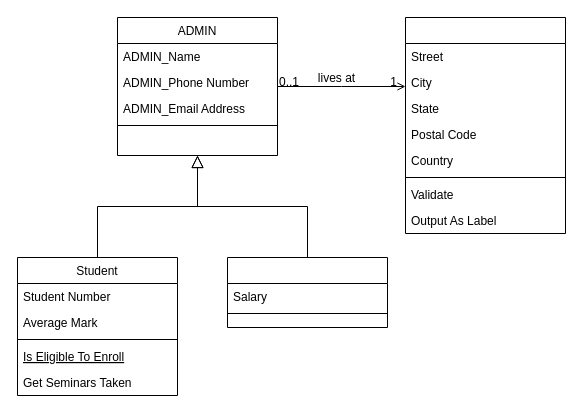
This 583x416 diagram has some shape labels left out. The box of each missing label's shape, as (x1, y1, x2, y2) in pixels:
Address: (404, 16, 566, 234)
Professor: (226, 256, 388, 328)
